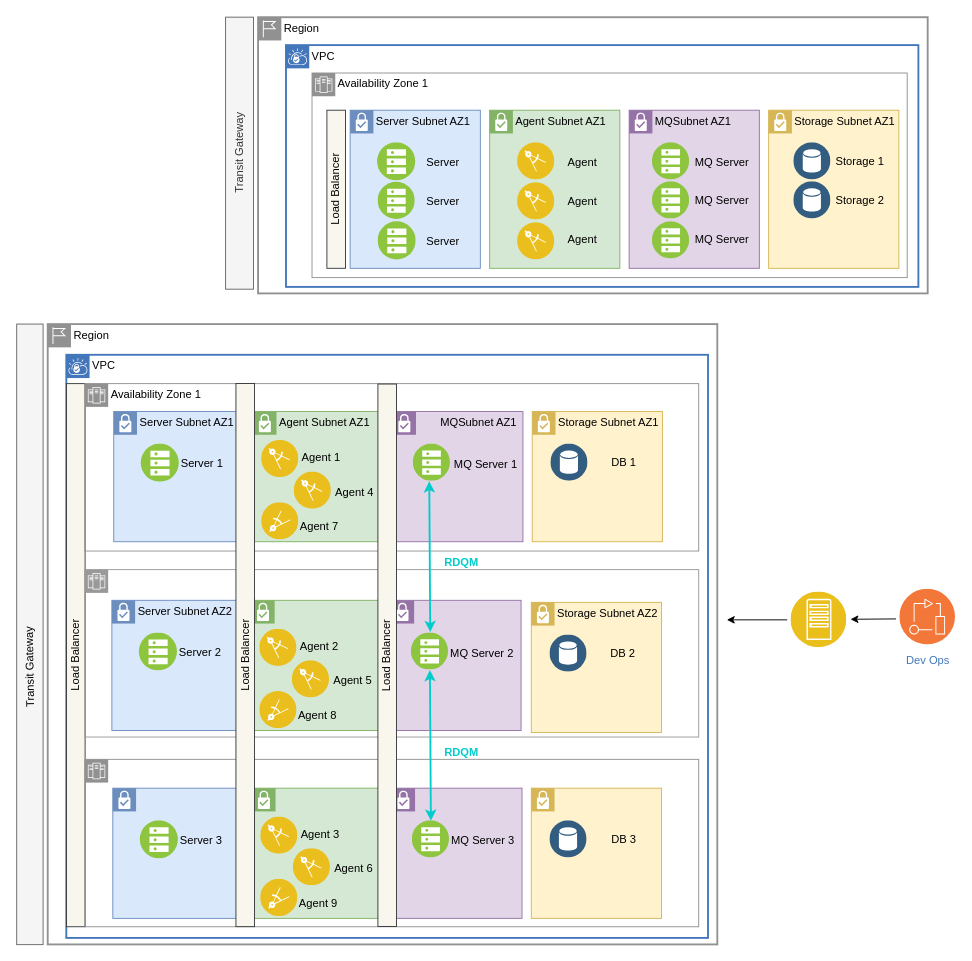
Image size: 972x961. Some labels were removed from this diagram. The box of each missing label's shape, as (x1, y1, x2, y2) in pixels:
Agent Subnet AZ2: (250, 599, 382, 731)
Agent Subnet AZ3: (251, 787, 383, 918)
Availability Zone 2: (84, 569, 699, 737)
Availability Zone 3: (84, 758, 699, 927)
Bastion Server: (790, 591, 846, 647)
MQSubnet AZ2: (390, 599, 521, 731)
MQSubnet AZ3: (391, 787, 522, 918)
Server Subnet AZ3: (112, 787, 243, 918)
Storage Subnet AZ3: (530, 787, 662, 918)
